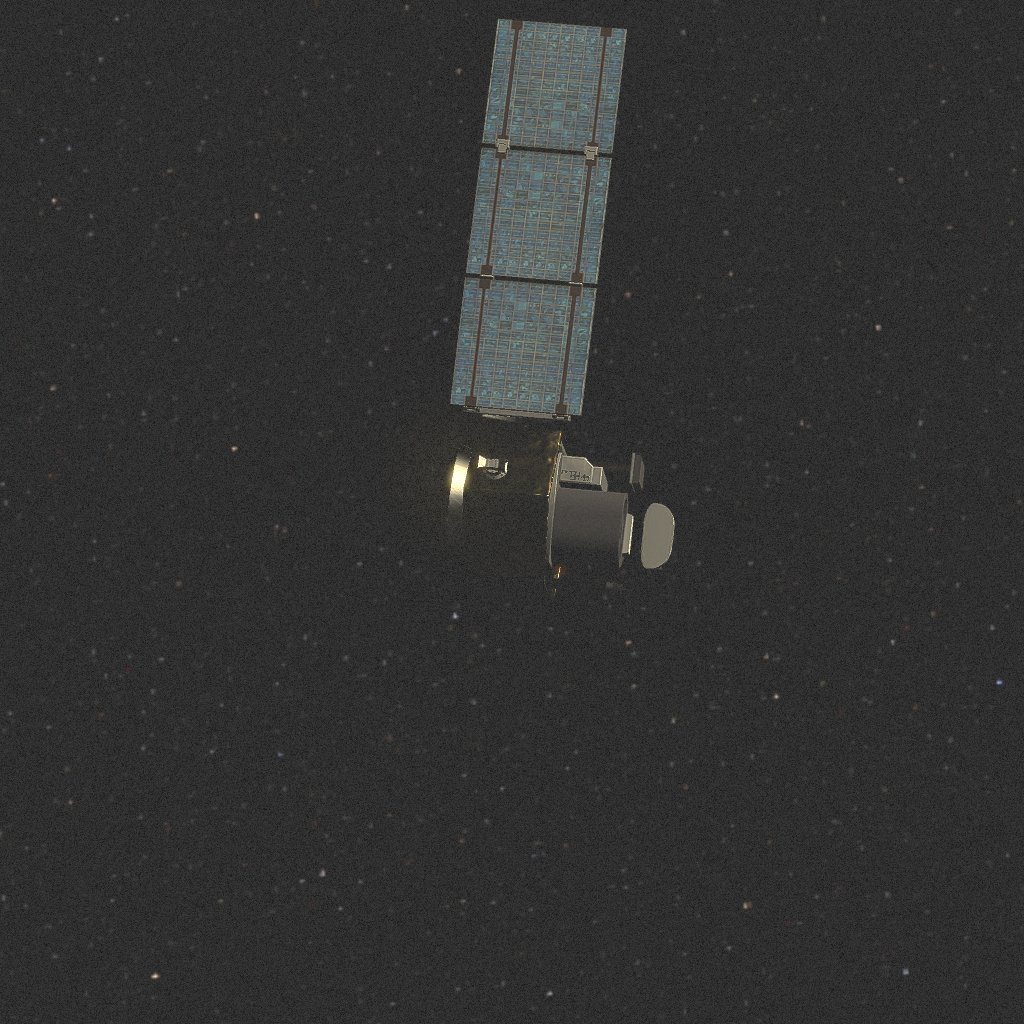earth_observation_sat_1: (447, 19, 674, 606)
